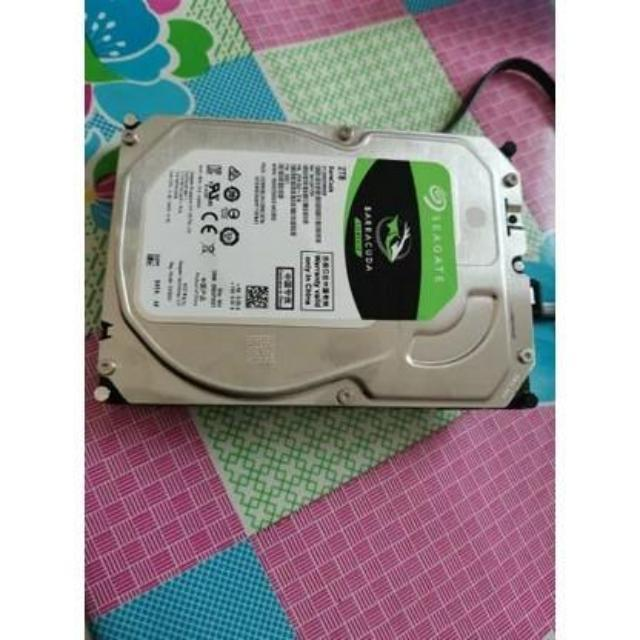DISK: (87, 100, 542, 425)
